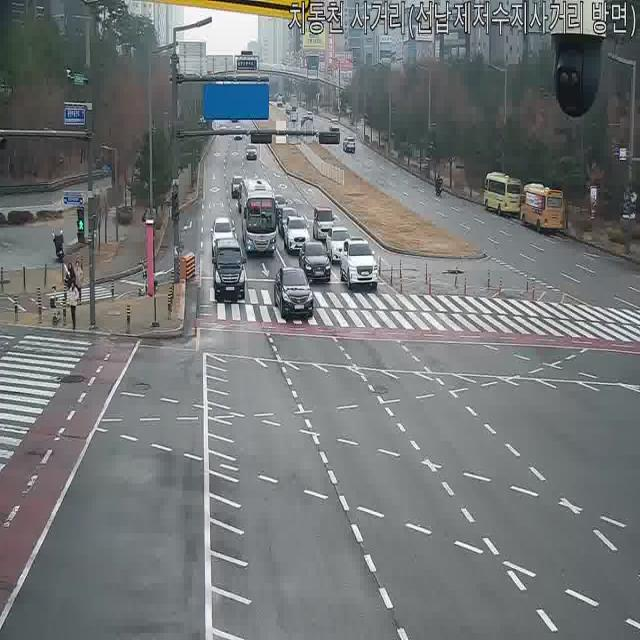Bus: (239, 176, 279, 258), (518, 182, 566, 234), (482, 172, 524, 216)
Car: (274, 267, 314, 321), (211, 241, 247, 301), (339, 237, 379, 289), (298, 240, 331, 286), (210, 216, 236, 259), (325, 225, 353, 263), (284, 216, 310, 255), (312, 205, 337, 242), (236, 180, 259, 215), (277, 206, 299, 238), (268, 192, 288, 222), (230, 174, 248, 198), (634, 268, 640, 310), (342, 136, 356, 152), (246, 144, 258, 162), (303, 118, 314, 137), (232, 126, 244, 141), (329, 117, 339, 131), (289, 110, 299, 124), (303, 110, 313, 122), (275, 96, 283, 108)
Motorcycle: (433, 172, 445, 199)
